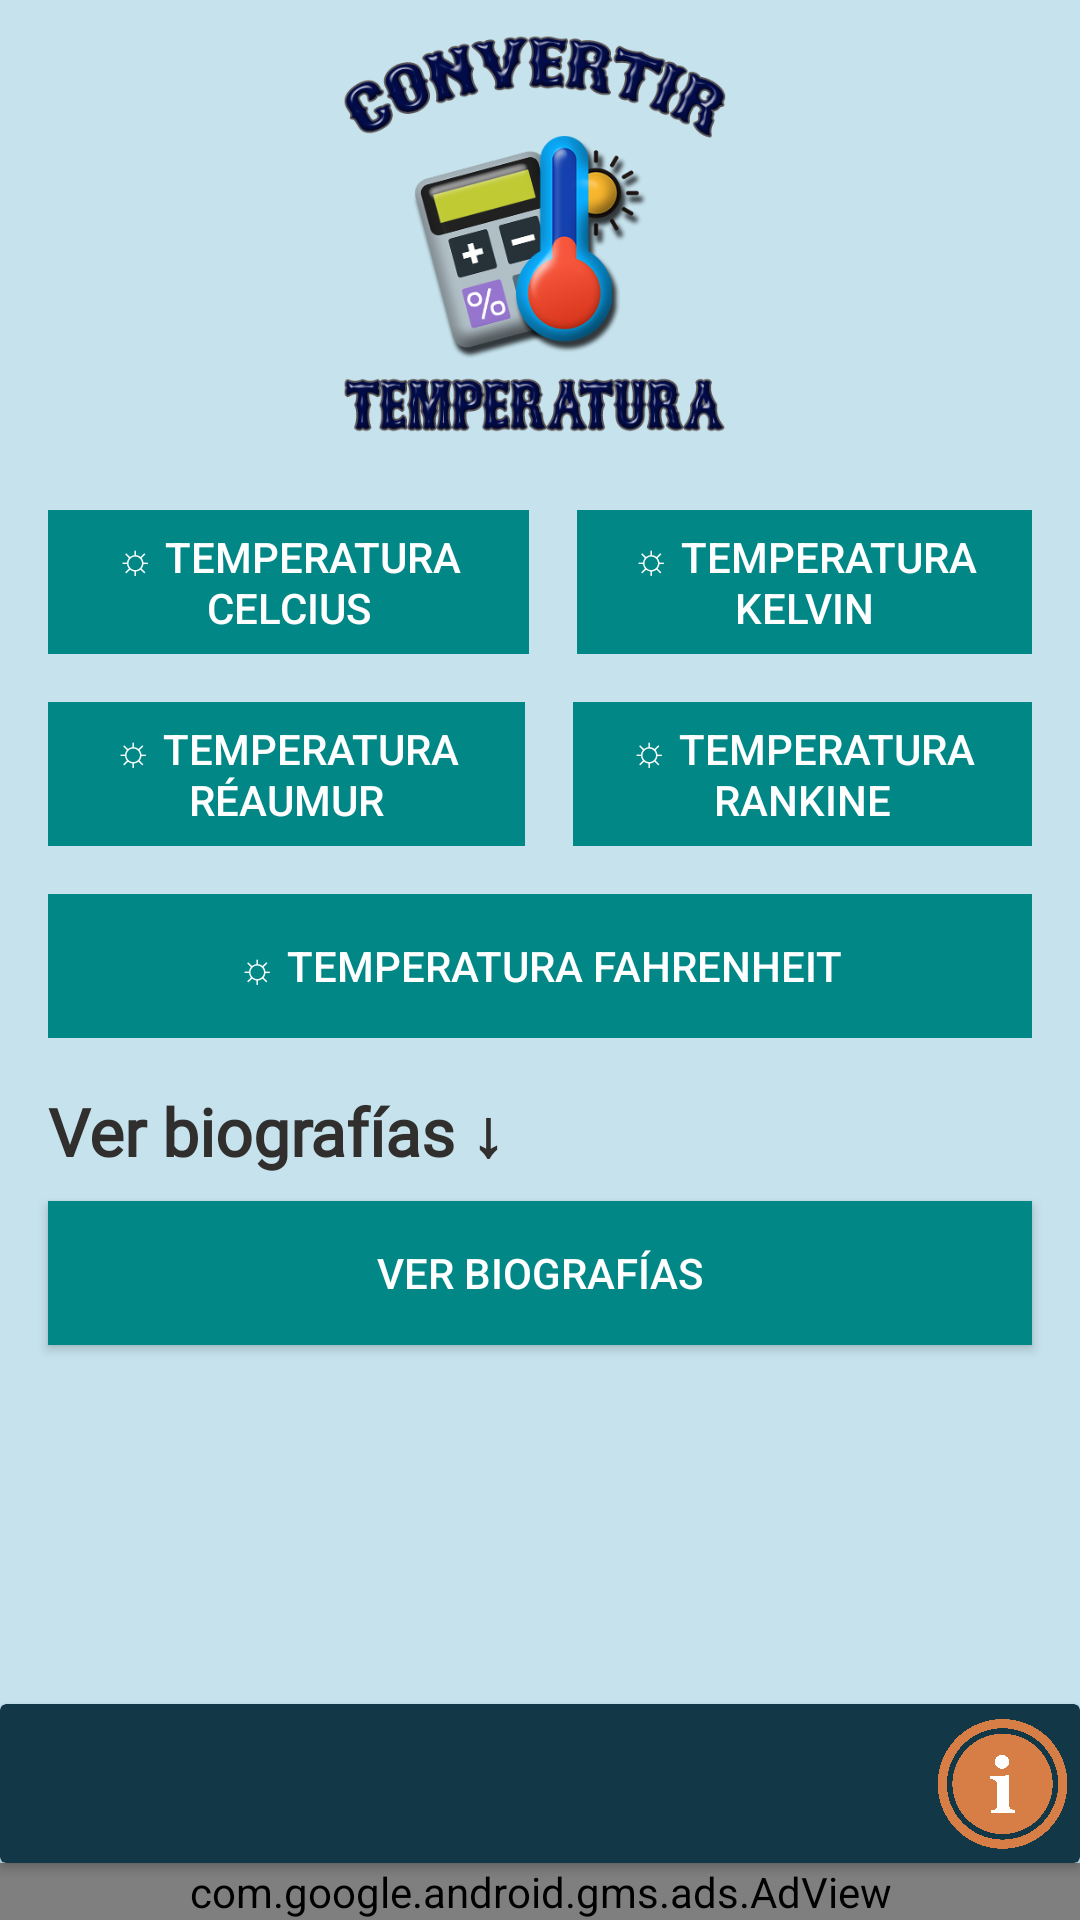

Screen size 1080px×1920px. Icon name, then its box in pixels as (x1, y1, x2, y2):
about: (938, 1719, 1067, 1849)
